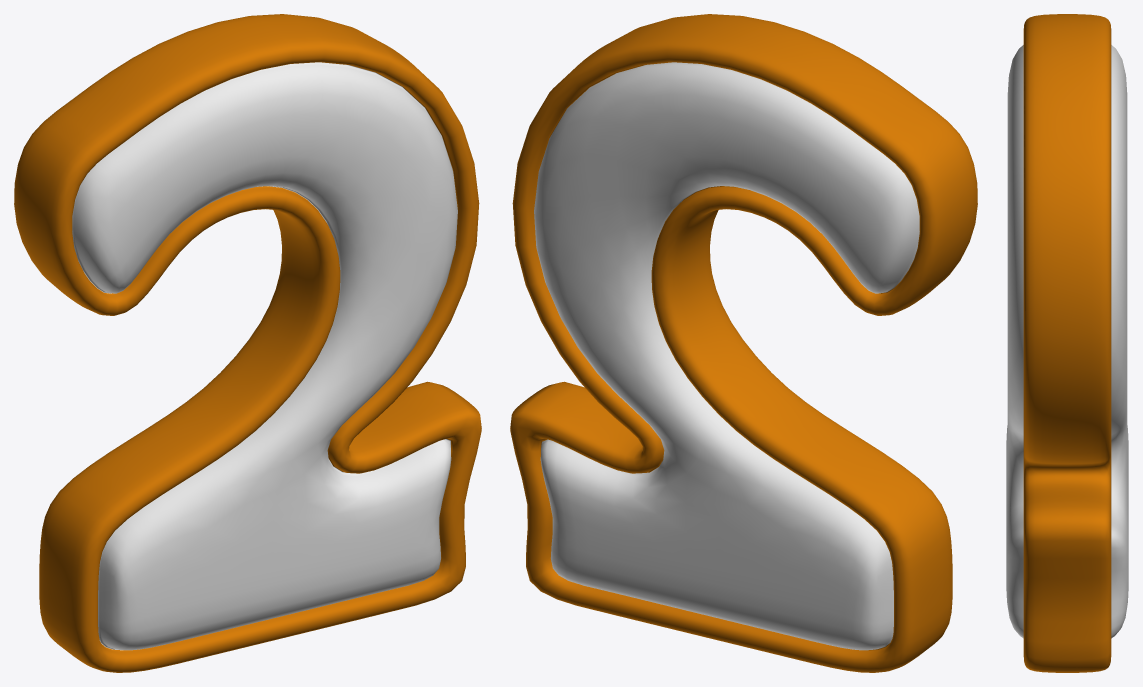
File: number 2.fbx
3 views of the same model, side by side, from view 1: azimuth 30°, elevation 25°; view 2: azimuth 150°, elevation 25°; view 3: azimuth 270°, elevation 25° (orthographic). The views are drawn at different scales.
Parts seen in each view (by area): view 1: num2; view 2: num2; view 3: num2.
Part boxes in pixels (x1,y1,x2,y2): num2: (14,14,481,672); num2: (510,14,977,672); num2: (1006,14,1128,672).
Size of the model in its own units: 225 by 297 by 59.75.
